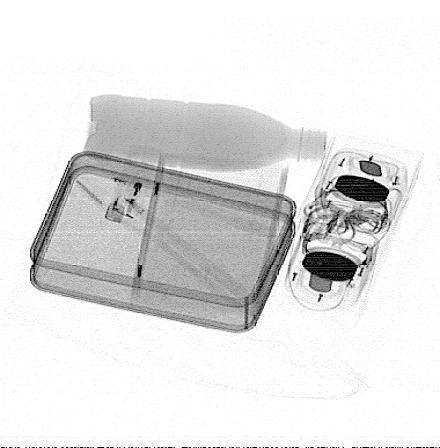Lighter: (104, 169, 140, 224)
